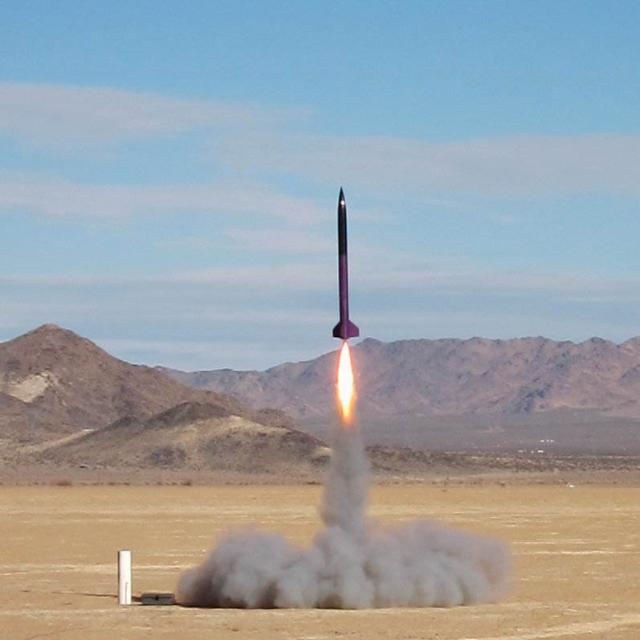Rocket: (332, 185, 360, 340)
